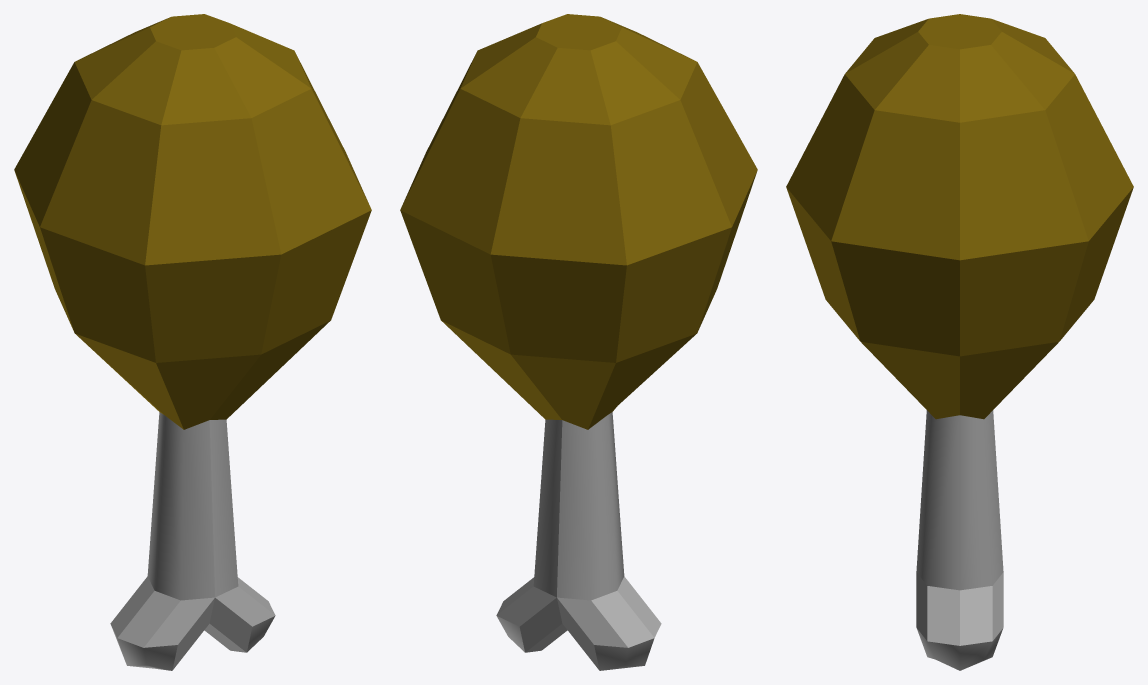
Rendered from Chicken.fbx.
The picture shows the model from 3 angles, left to right: view 1: azimuth 30°, elevation 25°; view 2: azimuth 150°, elevation 25°; view 3: azimuth 270°, elevation 25°; orthographic projection.
Visible parts, largest first — view 1: Poultry; view 2: Poultry; view 3: Poultry.
Part boxes in pixels (left/top/right/bottom): Poultry: left=14, top=14, right=371, bottom=670; Poultry: left=400, top=14, right=757, bottom=670; Poultry: left=786, top=14, right=1133, bottom=670.
Size of the model in its own units: 0.9122 by 1.79 by 0.9122.
